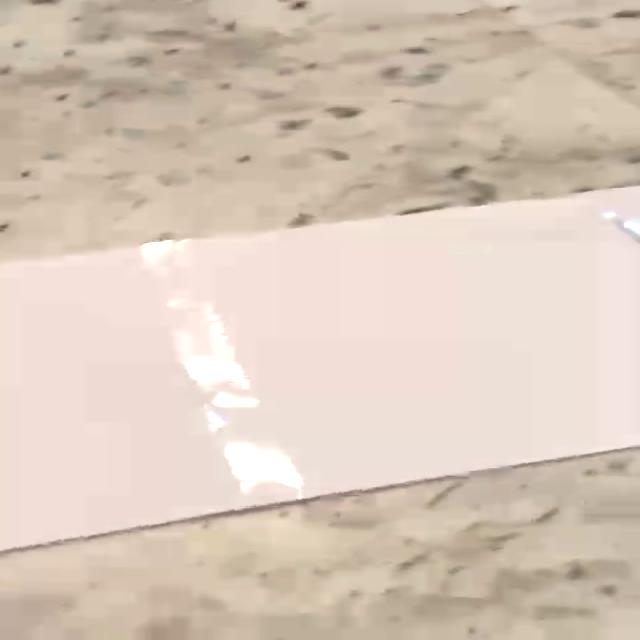road: (3, 187, 639, 549)
